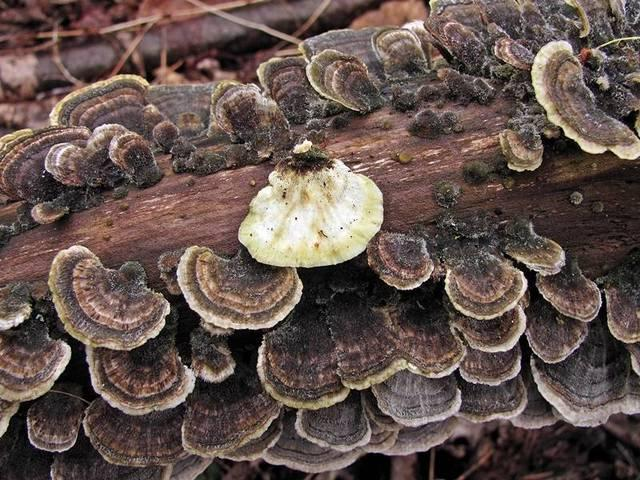Non-edible Mushroom: (28, 230, 636, 461), (8, 0, 640, 150), (236, 138, 384, 269), (46, 243, 170, 351), (529, 39, 638, 160)
